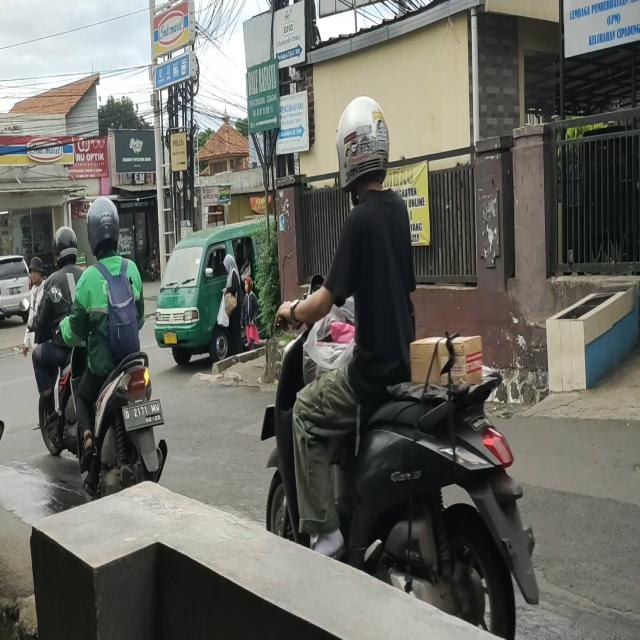helmet: (337, 99, 388, 185), (88, 198, 119, 255), (53, 227, 78, 263)
